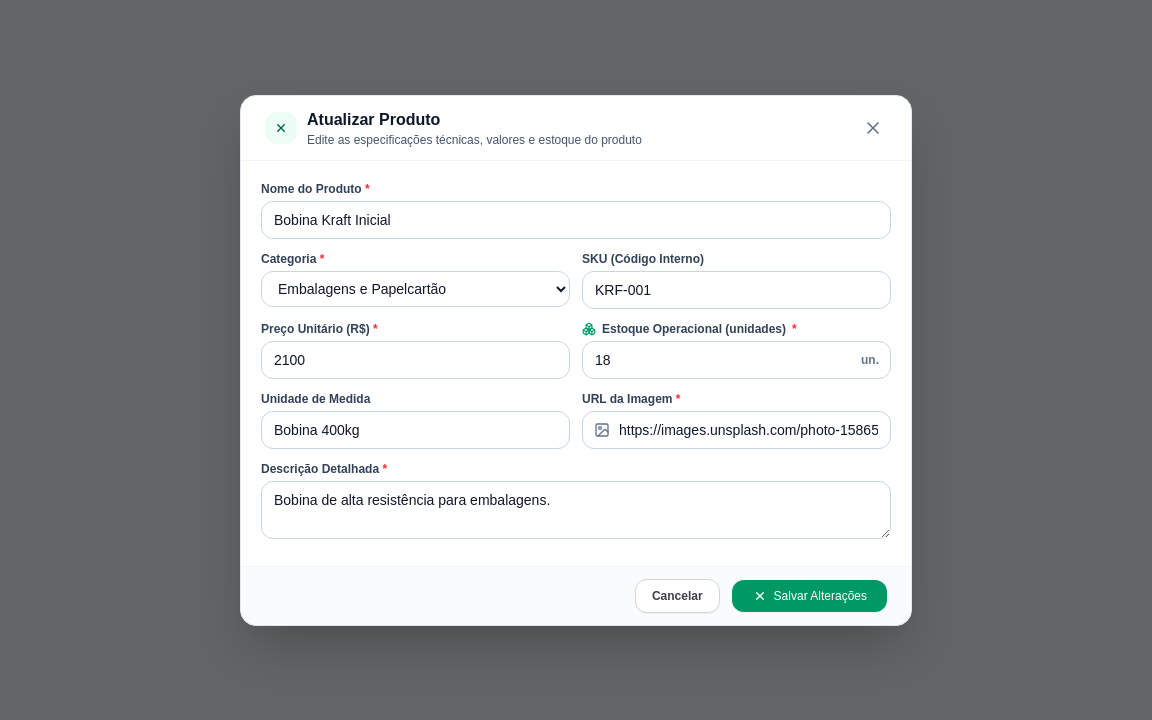
ProductFormModal Component › deve preencher os campos e atualizar o produto quando productToEdit for fornecido
Expected: the heading "Atualizar Produto" is shown, [307, 110, 440, 128]
Expected: the field showing "Bobina Kraft Inicial" is shown, [261, 200, 891, 238]
Replace the text in the number field labelled "Preço Unitário (R$) *" with "2450" at (416, 360), box [261, 340, 570, 378]
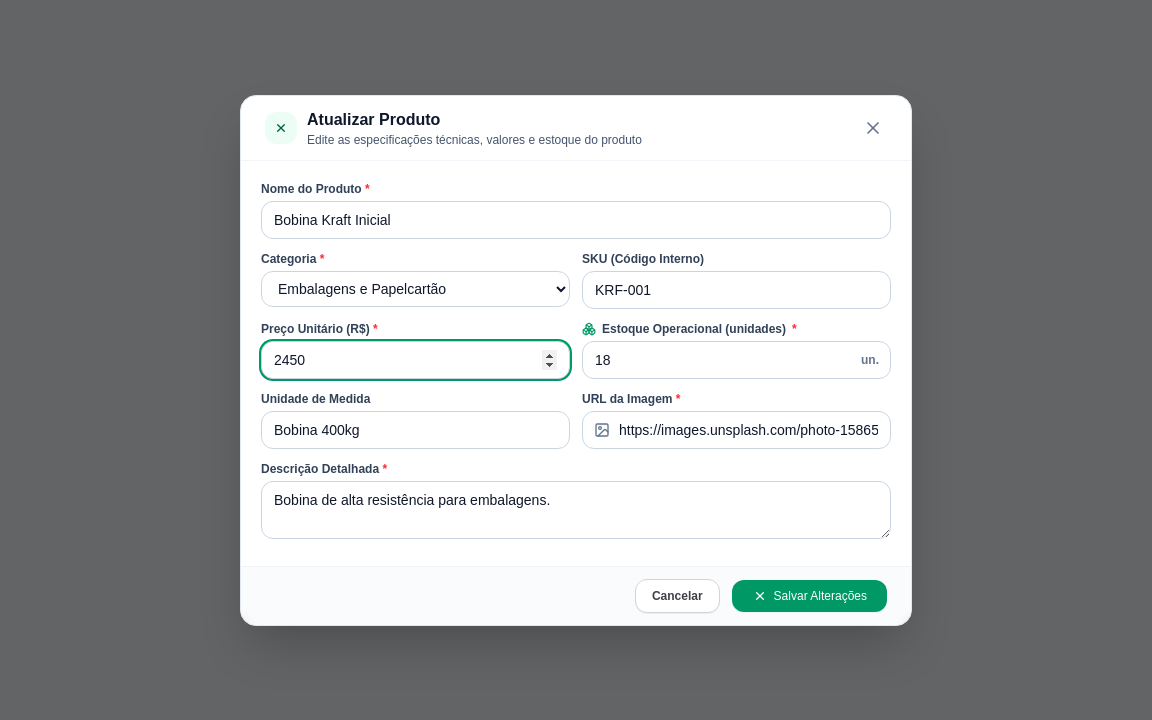
Click the button "Salvar Alterações" at (809, 596), box [732, 580, 887, 612]
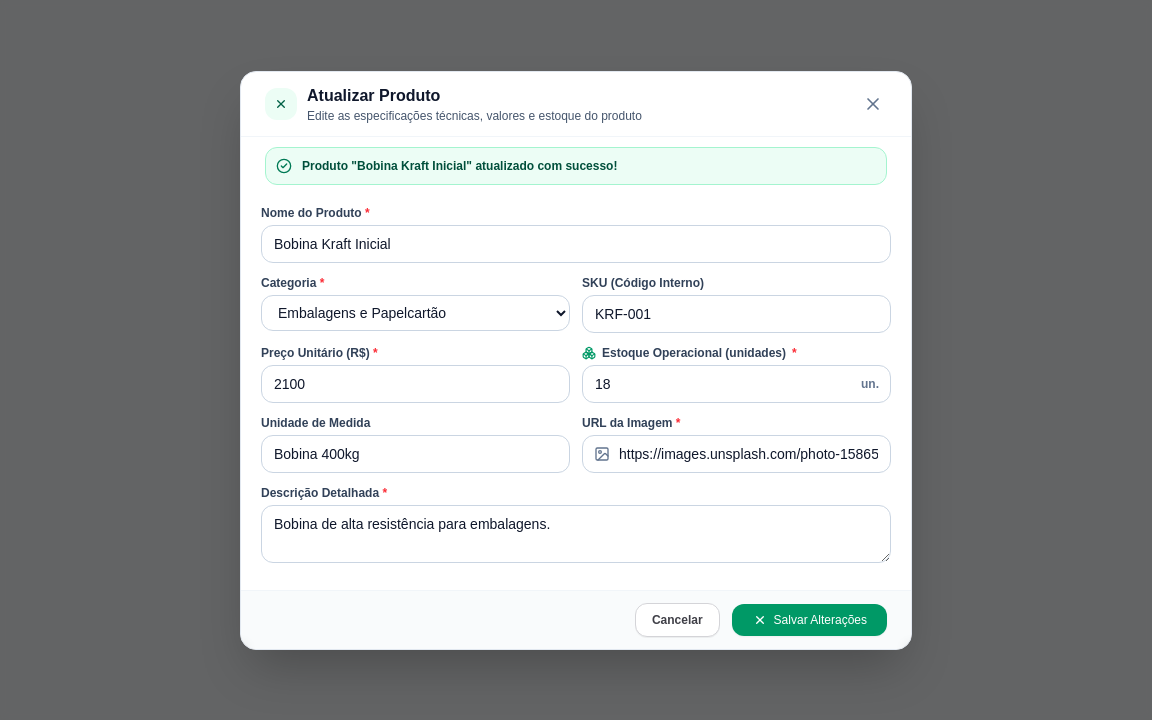
Result: the text "Produto \"Bobina Kraft Inicial\" atualizado com sucesso!" is shown at [302, 158, 617, 174]
